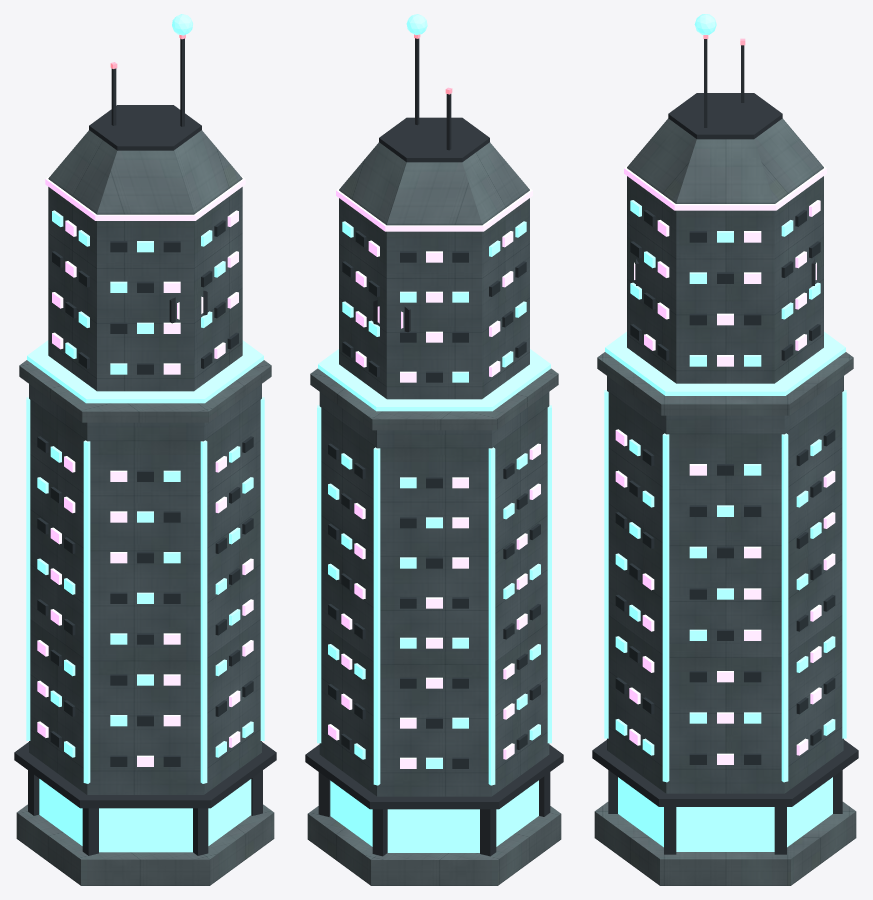
Rendered from synthwave-faceted.glb.
The picture shows the model from 3 angles, left to right: view 1: azimuth 30°, elevation 25°; view 2: azimuth 150°, elevation 25°; view 3: azimuth 270°, elevation 25°; orthographic projection. The views are drawn at different scales.
Parts seen in each view (by area): view 1: Facet_Body, Facet_Body2, Facet_Frame, Facet_FacetEdge, LobbyGlass, Facet_PaneOff, RingSet, Facet_PaneBDim, Facet_PaneADim, Facet_PaneAHot, Facet_PaneB, RingCrown; view 2: Facet_Body, Facet_Body2, Facet_Frame, Facet_FacetEdge, LobbyGlass, Facet_PaneOff, Facet_PaneBDim, RingSet, Facet_PaneADim, Facet_PaneAHot, Facet_PaneB, RingCrown; view 3: Facet_Body, Facet_Body2, Facet_Frame, Facet_FacetEdge, LobbyGlass, Facet_PaneOff, RingSet, Facet_PaneADim, Facet_PaneBDim, Facet_PaneB, Facet_PaneAHot, RingCrown.
Boxes of the visible parts, box(x1,y1,x2,y2) form: Facet_Body: box(29, 178, 261, 794); Facet_Body2: box(16, 130, 274, 885); Facet_Frame: box(14, 105, 276, 855); Facet_FacetEdge: box(26, 397, 264, 783); LobbyGlass: box(39, 779, 251, 852); Facet_PaneOff: box(37, 220, 253, 766); RingSet: box(27, 340, 263, 403); Facet_PaneBDim: box(37, 210, 253, 766); Facet_PaneADim: box(37, 210, 253, 757); Facet_PaneAHot: box(50, 230, 253, 737); Facet_PaneB: box(37, 261, 253, 737); RingCrown: box(45, 175, 245, 220); Facet_Body: box(319, 190, 549, 796); Facet_Body2: box(307, 142, 561, 885); Facet_Frame: box(305, 117, 563, 856); Facet_FacetEdge: box(317, 405, 551, 785); LobbyGlass: box(330, 780, 538, 852); Facet_PaneOff: box(328, 231, 540, 768); Facet_PaneBDim: box(328, 231, 540, 768); RingSet: box(318, 349, 550, 411); Facet_PaneADim: box(328, 221, 540, 759); Facet_PaneAHot: box(328, 221, 540, 768); Facet_PaneB: box(341, 240, 540, 759); RingCrown: box(336, 186, 532, 231); Facet_Body: box(607, 168, 843, 793); Facet_Body2: box(594, 118, 856, 885); Facet_Frame: box(592, 93, 858, 854); Facet_FacetEdge: box(604, 390, 846, 782); LobbyGlass: box(618, 777, 832, 851); Facet_PaneOff: box(615, 210, 835, 764); RingSet: box(605, 331, 845, 395); Facet_PaneADim: box(615, 220, 835, 735); Facet_PaneBDim: box(615, 220, 835, 755); Facet_PaneB: box(615, 200, 835, 764); Facet_PaneAHot: box(615, 200, 835, 755); RingCrown: box(624, 164, 826, 210).
Size of the model in its own units: 0.9353 by 3.75 by 1.08.
Materials: 15 (2 with a texture image).
